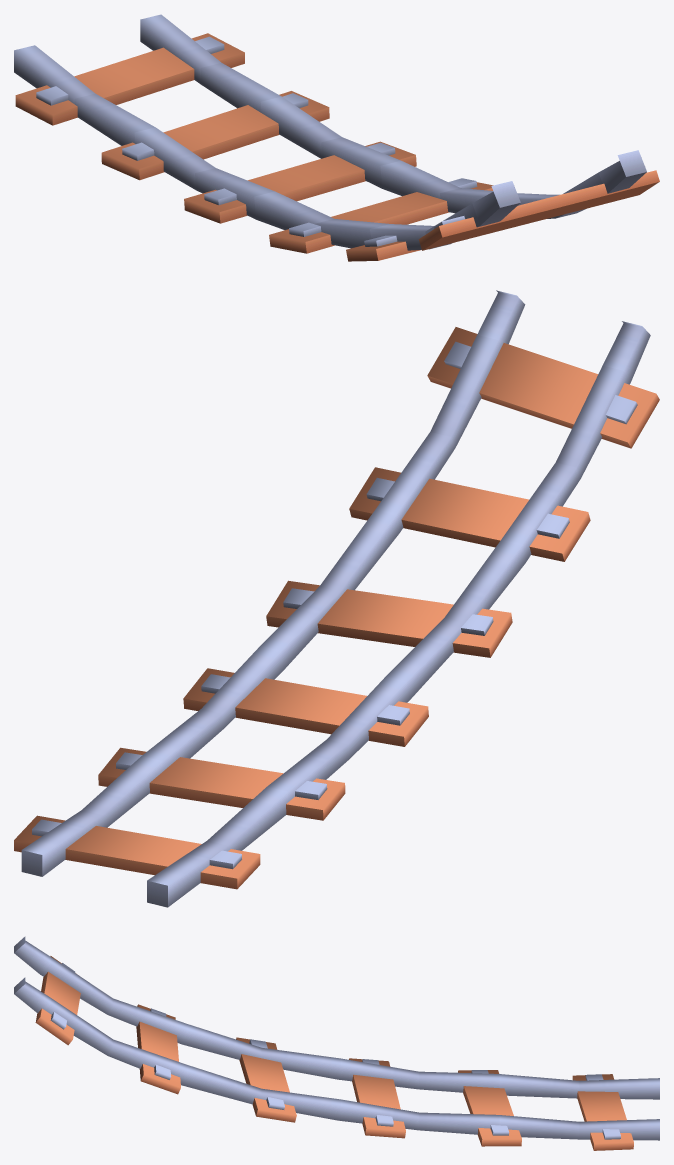
File: kenney-train-railroad-damaged-straight-hill-beginning.glb
The picture shows the model from 3 angles, top to bottom: view 1: azimuth 30°, elevation 25°; view 2: azimuth 150°, elevation 25°; view 3: azimuth 270°, elevation 25°; orthographic projection. The views are drawn at different scales.
Visible parts, largest first — view 1: railroad-damaged-straight-hill-beginning; view 2: railroad-damaged-straight-hill-beginning; view 3: railroad-damaged-straight-hill-beginning.
Part boxes in pixels (bbox=[...]): railroad-damaged-straight-hill-beginning: bbox=[14, 14, 659, 261]; railroad-damaged-straight-hill-beginning: bbox=[14, 290, 659, 907]; railroad-damaged-straight-hill-beginning: bbox=[14, 936, 659, 1150].
Bounding box in the file's own units: 1.03 × 1.07 × 4.
Materials: 1 (1 with a texture image).
